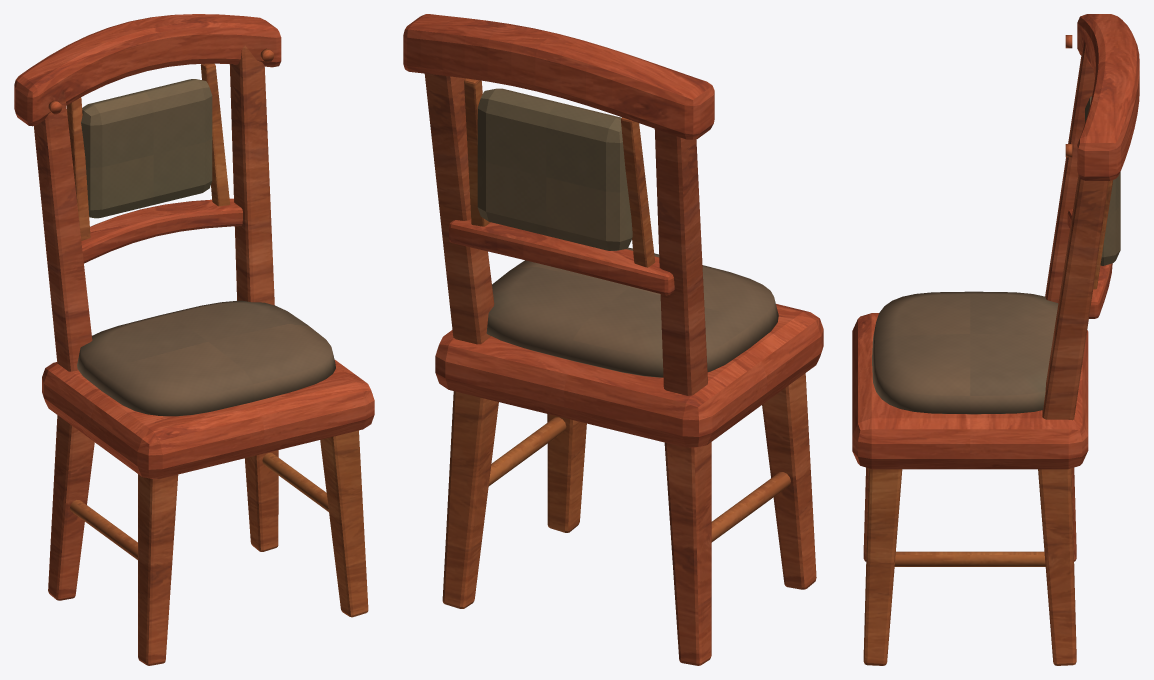
Rendered from WC_CAFE_Chair_A.glb.
3 views of the same model, side by side, from view 1: azimuth 30°, elevation 25°; view 2: azimuth 150°, elevation 25°; view 3: azimuth 270°, elevation 25° (orthographic). The views are drawn at different scales.
Visible parts, largest first — view 1: WC_CAFE_Chair_A_DesignedMesh; view 2: WC_CAFE_Chair_A_DesignedMesh; view 3: WC_CAFE_Chair_A_DesignedMesh.
Part boxes in pixels (<box>): WC_CAFE_Chair_A_DesignedMesh: <box>14,14,374,665</box>; WC_CAFE_Chair_A_DesignedMesh: <box>403,14,823,665</box>; WC_CAFE_Chair_A_DesignedMesh: <box>852,14,1139,665</box>.
Bounding box in the file's own units: 0.554 × 1.1 × 0.518.
4 materials, 4 textured.
